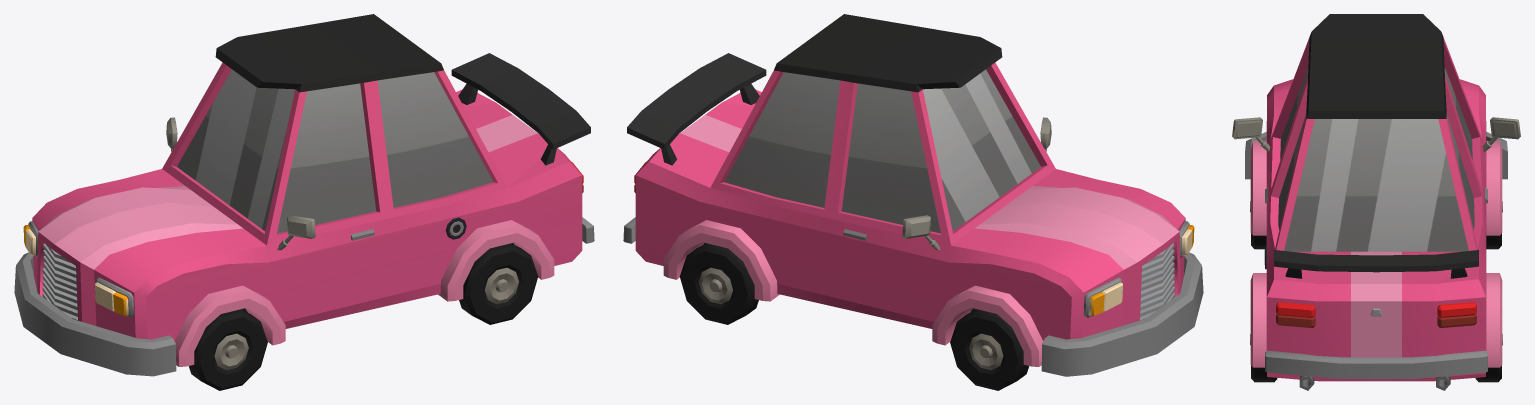
Rendered from Car_2_I.gltf.
The picture shows the model from 3 angles, left to right: view 1: azimuth 30°, elevation 25°; view 2: azimuth 150°, elevation 25°; view 3: azimuth 270°, elevation 25°; orthographic projection.
Parts seen in each view (by area): view 1: Car_2_I, RL, FL; view 2: Car_2_I, RR, FR; view 3: Car_2_I, RL, RR.
Boxes of the visible parts, bbox=[...] form: Car_2_I: bbox=[14, 14, 594, 376]; RL: bbox=[459, 243, 538, 324]; FL: bbox=[188, 309, 267, 390]; Car_2_I: bbox=[623, 14, 1203, 376]; RR: bbox=[679, 243, 758, 324]; FR: bbox=[950, 309, 1029, 390]; Car_2_I: bbox=[1232, 14, 1520, 390]; RL: bbox=[1250, 334, 1277, 382]; RR: bbox=[1475, 334, 1502, 382].
Size of the model in its own units: 3.64 by 1.8 by 1.78.
4 materials, 4 textured.
